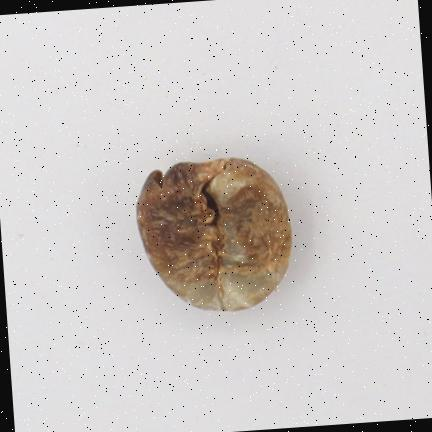partial-black: (137, 157, 291, 309)
